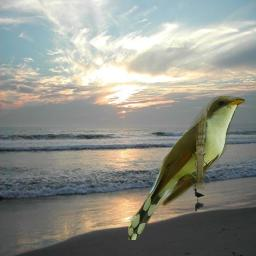Cuckoo: (128, 96, 245, 240)
